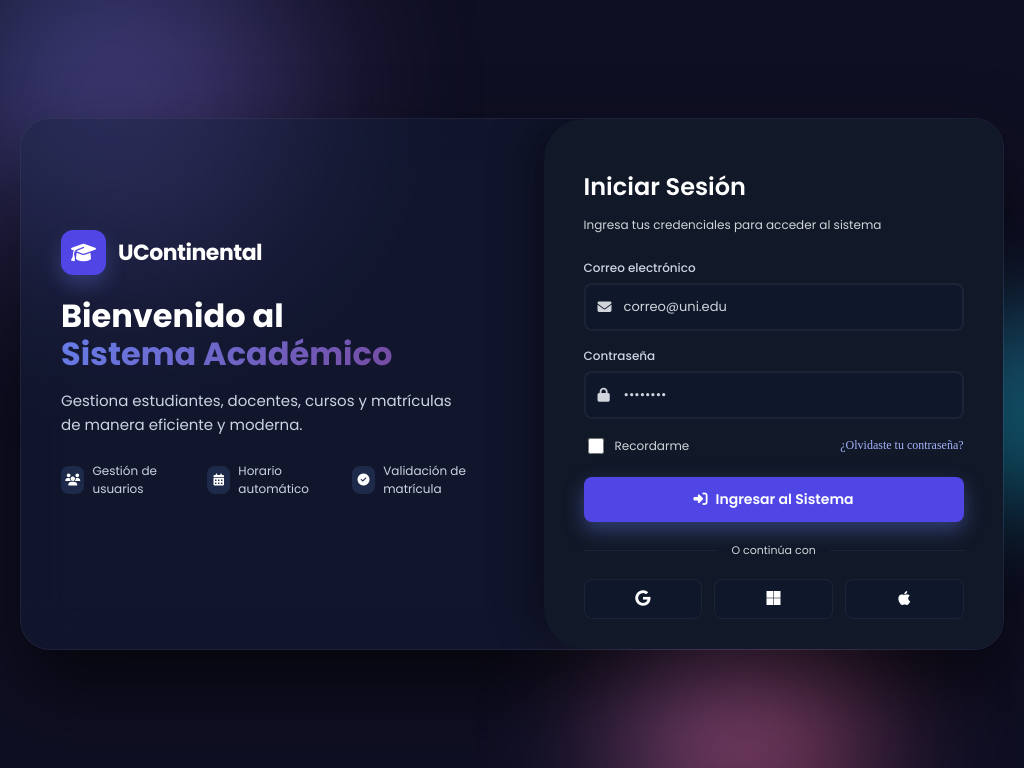
Test case: Navegacion Funcional › NAV-004 | Navegacion a seccion horarios
Type "admin@uni.edu" into the field with test id "email-input" at (774, 307), box [584,283,964,331]
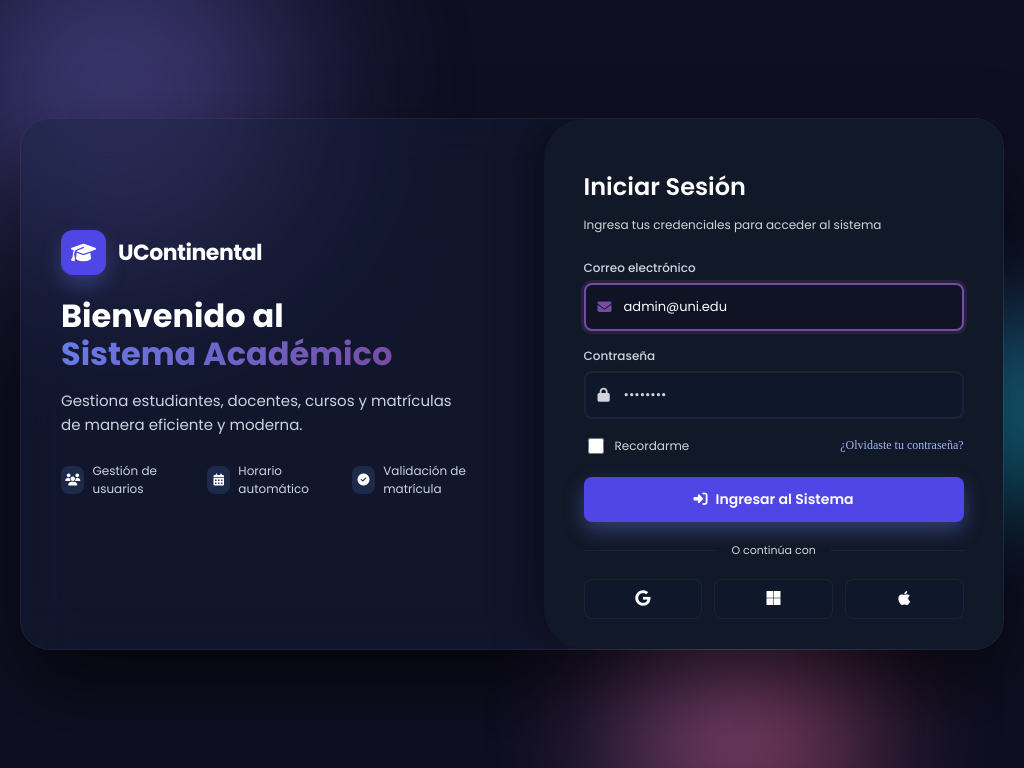
Type "admin123" into the password field with test id "password-input" at (774, 395), box [584,371,964,419]
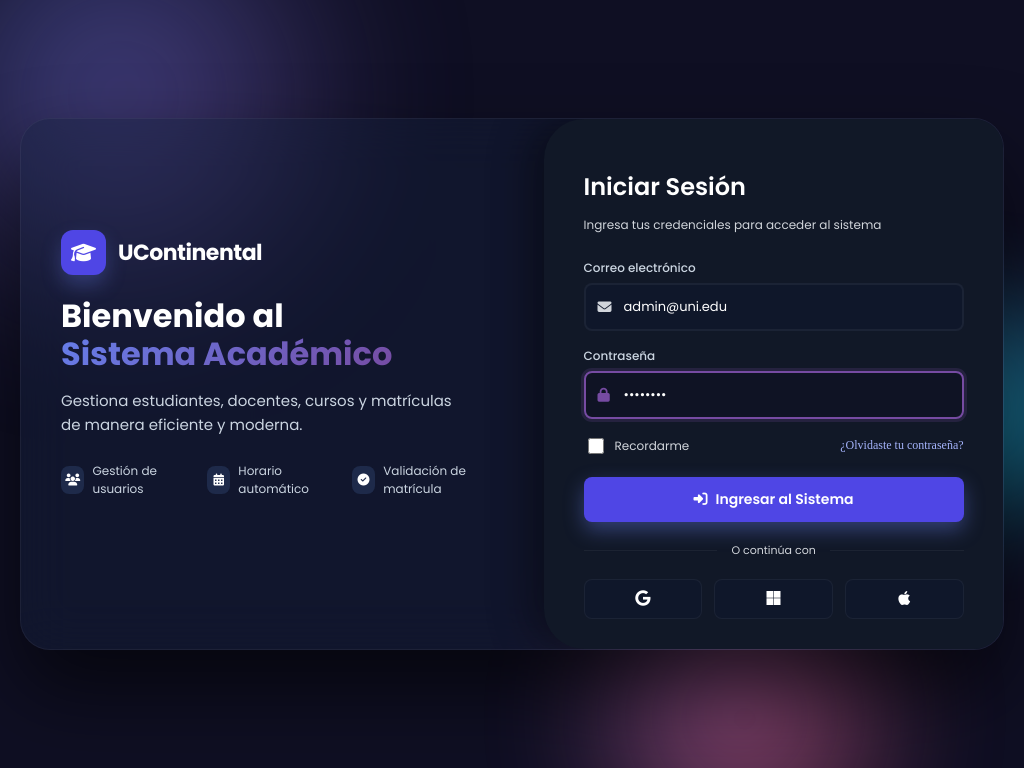
Click the button with test id "btn-login" at (774, 500), box [584,477,964,522]
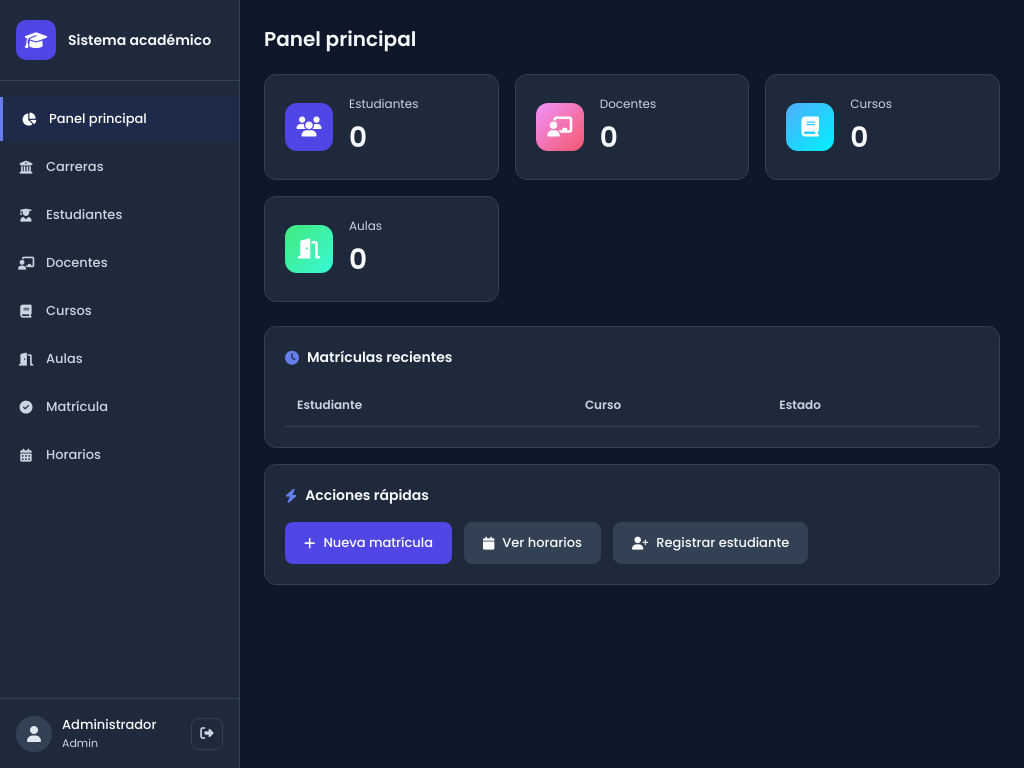
Check: the element with test id "dashboard-content" is shown, box [264,24,1000,585]
Click the text "Horarios" at (59, 455), box [16,445,101,464]
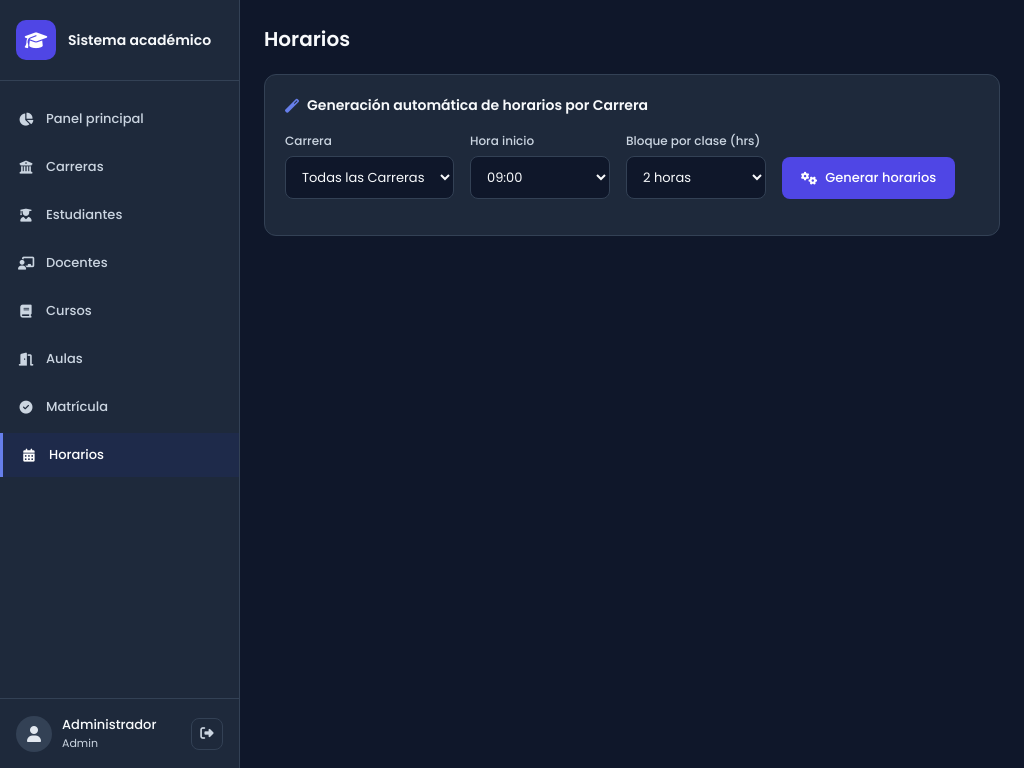
Check: the heading "Horarios" is shown, box [264,25,350,53]
